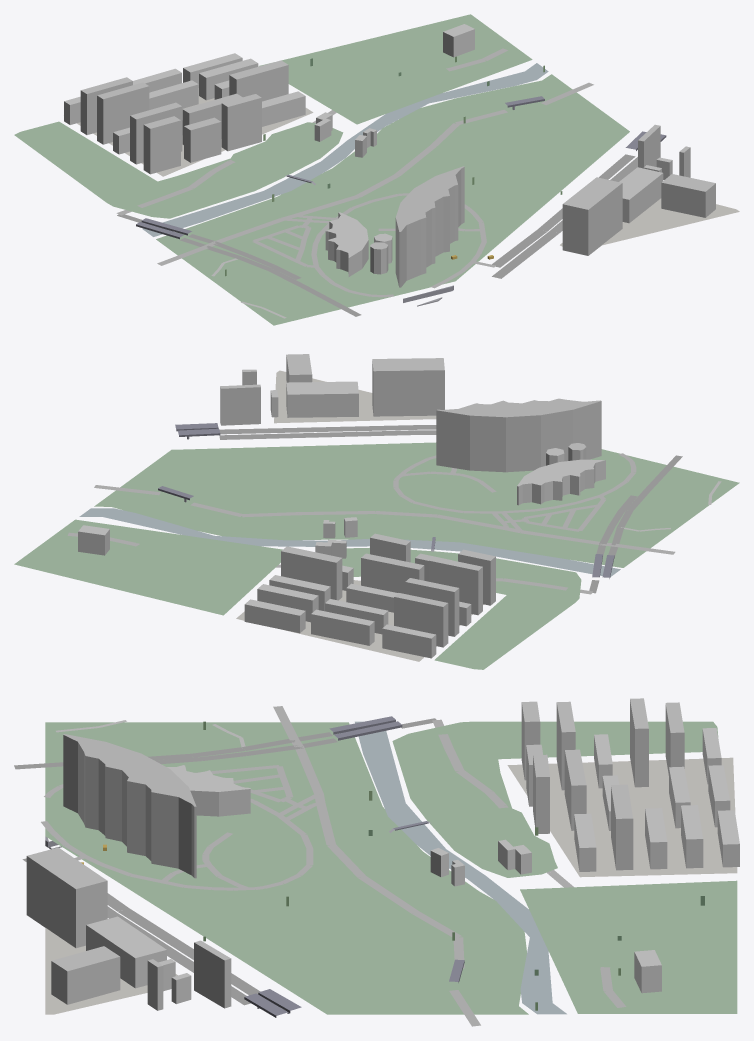
3 views of the same model, one above another, from view 1: azimuth 30°, elevation 25°; view 2: azimuth 150°, elevation 25°; view 3: azimuth 270°, elevation 25° (orthographic). The views are drawn at different scales.
Bounding box in the file's own units: 548 × 73.48 × 525.
